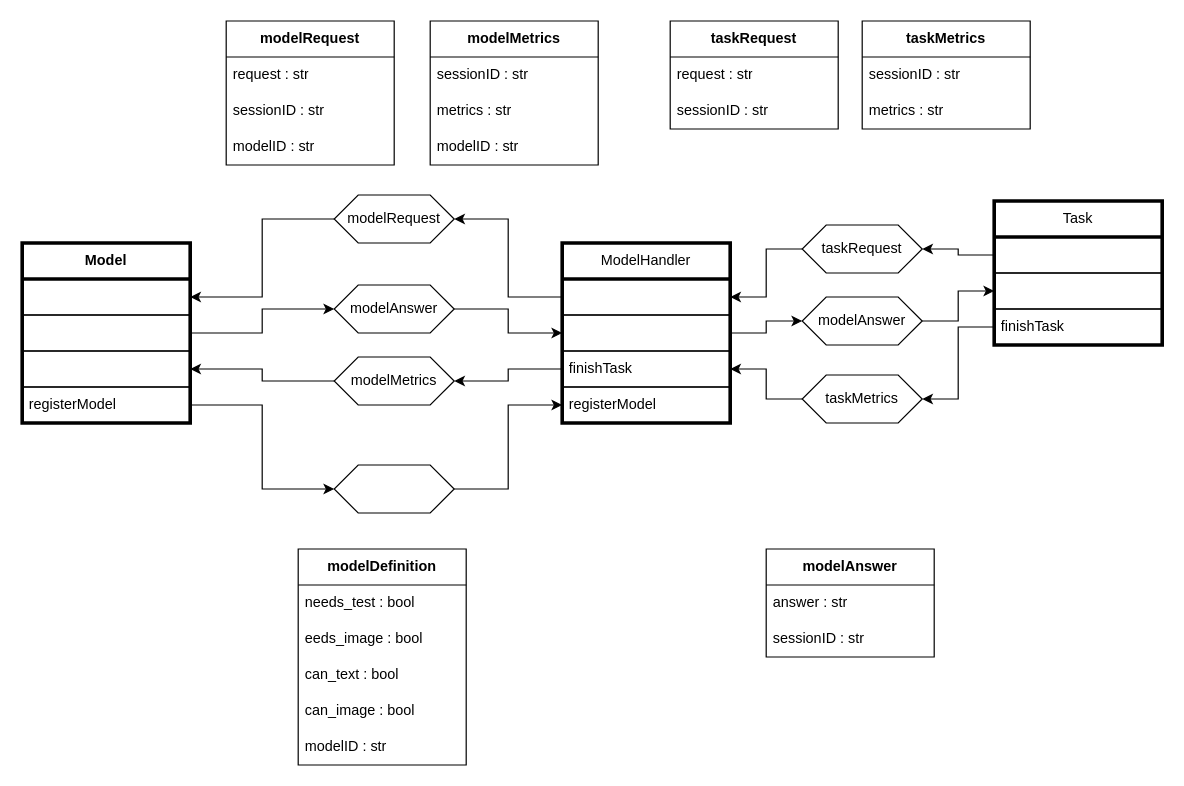
The diagram is 1184 pixels wide and 786 high, and some of its shapes have lost their labels. Each missing label, with the centre of its shape:
getModelResponse: the point at 1077,290
modeDefinition: the point at 393,488
predict: the point at 105,296
publishMetrics: the point at 105,368
returnToTask: the point at 645,332
runTask: the point at 1077,254
sendPrediction: the point at 105,332
sendToModel: the point at 645,296
